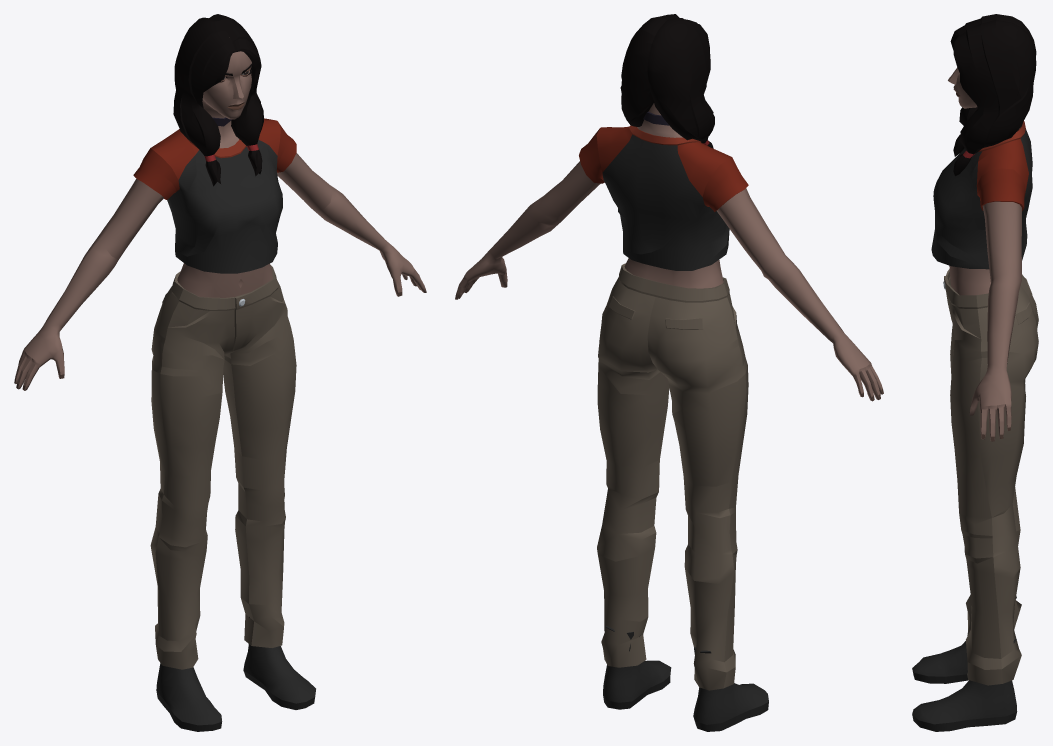
Rendered from female 5.fbx.
3 renders of one model, left to right at view 1: azimuth 30°, elevation 25°; view 2: azimuth 150°, elevation 25°; view 3: azimuth 270°, elevation 25°, orthographic. The views are drawn at different scales.
Visible parts, largest first — view 1: 549; view 2: 549; view 3: 549.
Boxes of the visible parts, x1=… form: 549: x1=14, y1=14, x2=426, y2=731; 549: x1=455, y1=14, x2=883, y2=731; 549: x1=912, y1=14, x2=1038, y2=731.
Size of the model in its own units: 1.17 by 1.84 by 0.3111.
